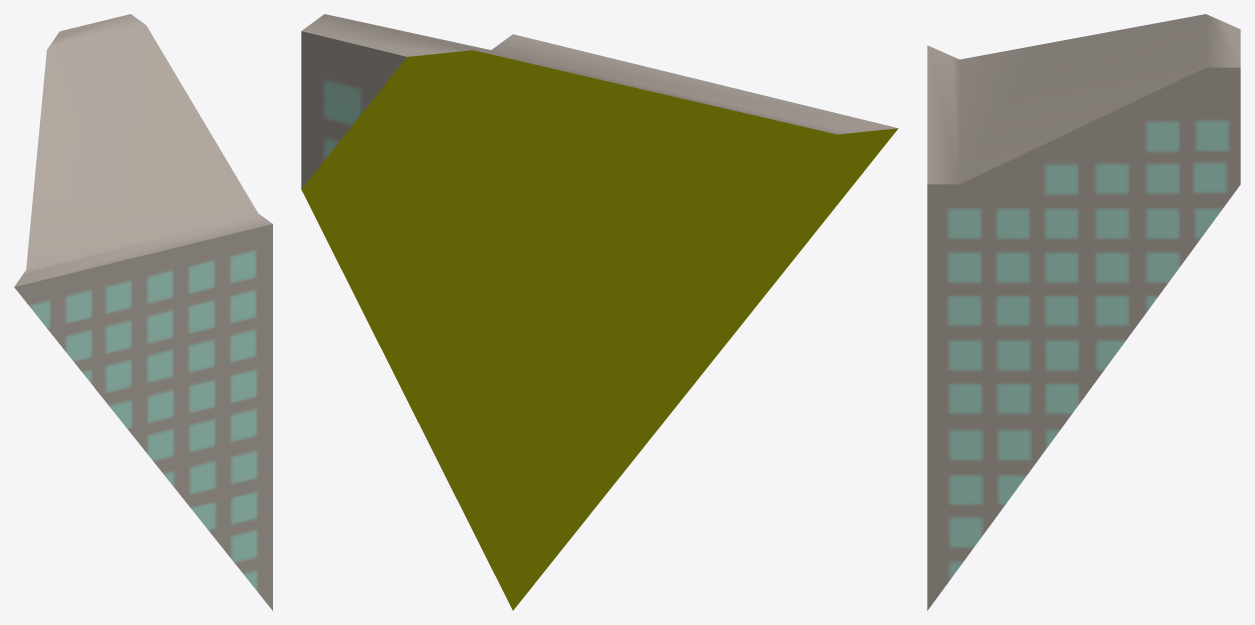
File: c2Shard2.fbx
3 renders of one model, left to right at view 1: azimuth 30°, elevation 25°; view 2: azimuth 150°, elevation 25°; view 3: azimuth 270°, elevation 25°, orthographic. The views are drawn at different scales.
Parts seen in each view (by area): view 1: shard70; view 2: shard70; view 3: shard70.
Part boxes in pixels (x1,y1,x2,y2): shard70: (14,14,272,610); shard70: (301,14,898,610); shard70: (927,14,1240,610).
Bounding box in the file's own units: 0.0964 × 0.1756 × 0.0917.
Materials: 2 (1 with a texture image).
